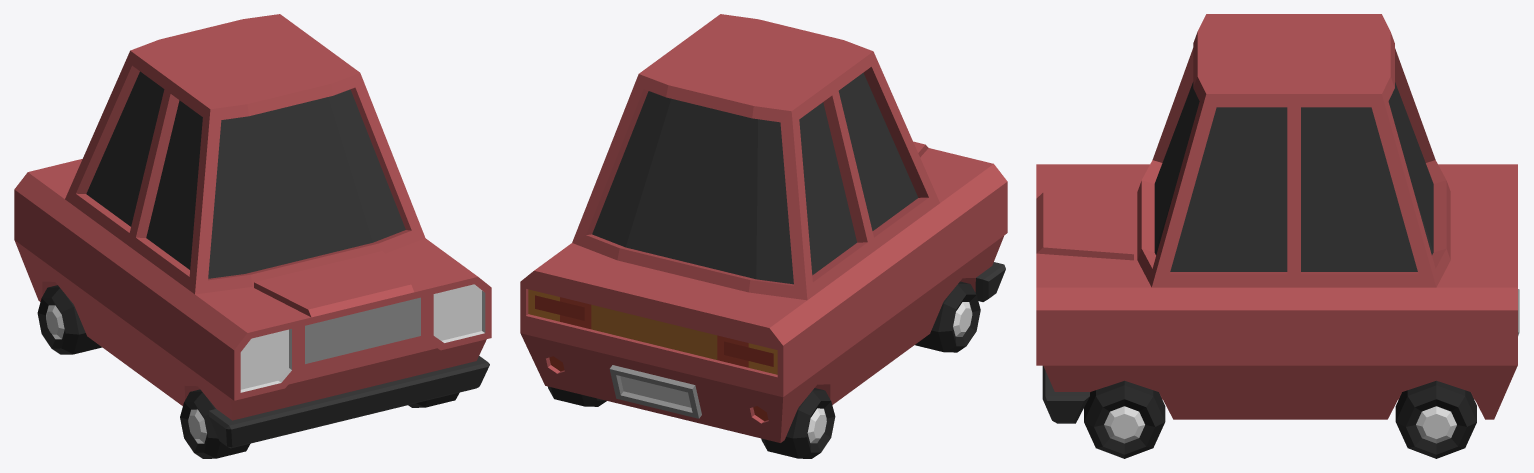
The model's file is Car04.fbx.
3 renders of one model, left to right at view 1: azimuth 30°, elevation 25°; view 2: azimuth 150°, elevation 25°; view 3: azimuth 270°, elevation 25°, orthographic. The views are drawn at different scales.
Visible parts, largest first — view 1: Car04; view 2: Car04; view 3: Car04.
Boxes of the visible parts, x1,y1,x2,y2 form: Car04: (14, 14, 491, 458); Car04: (520, 14, 1007, 458); Car04: (1036, 14, 1519, 458).
Size of the model in its own units: 1.97 by 2.22 by 2.85.
1 material, 1 textured.
